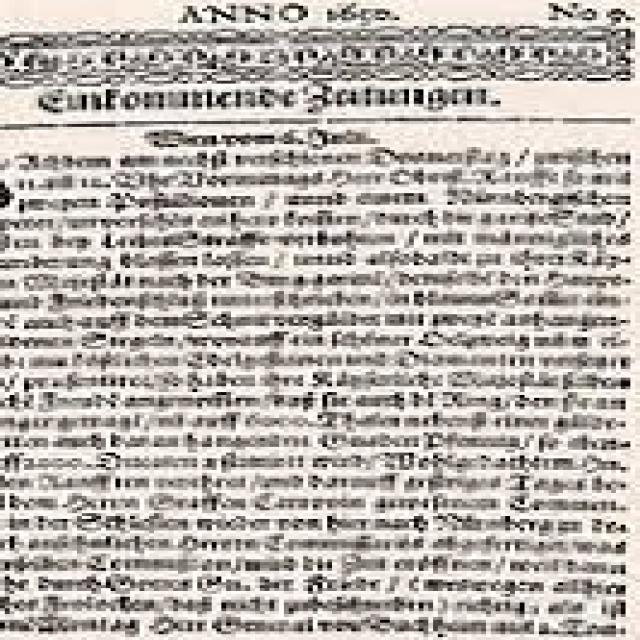organic: (17, 15, 595, 620)
